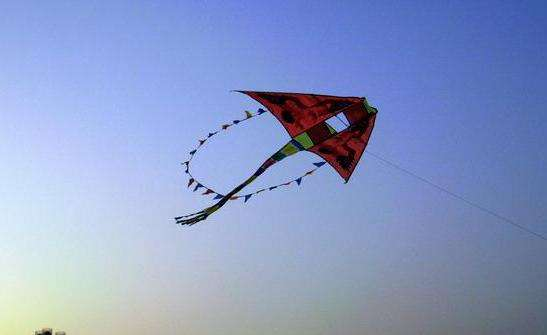kite: (173, 88, 380, 229)
